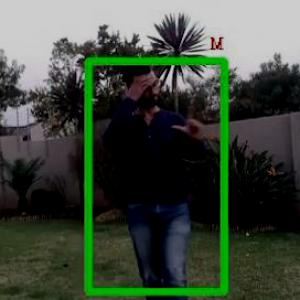land_hand: (171, 102, 207, 146)
